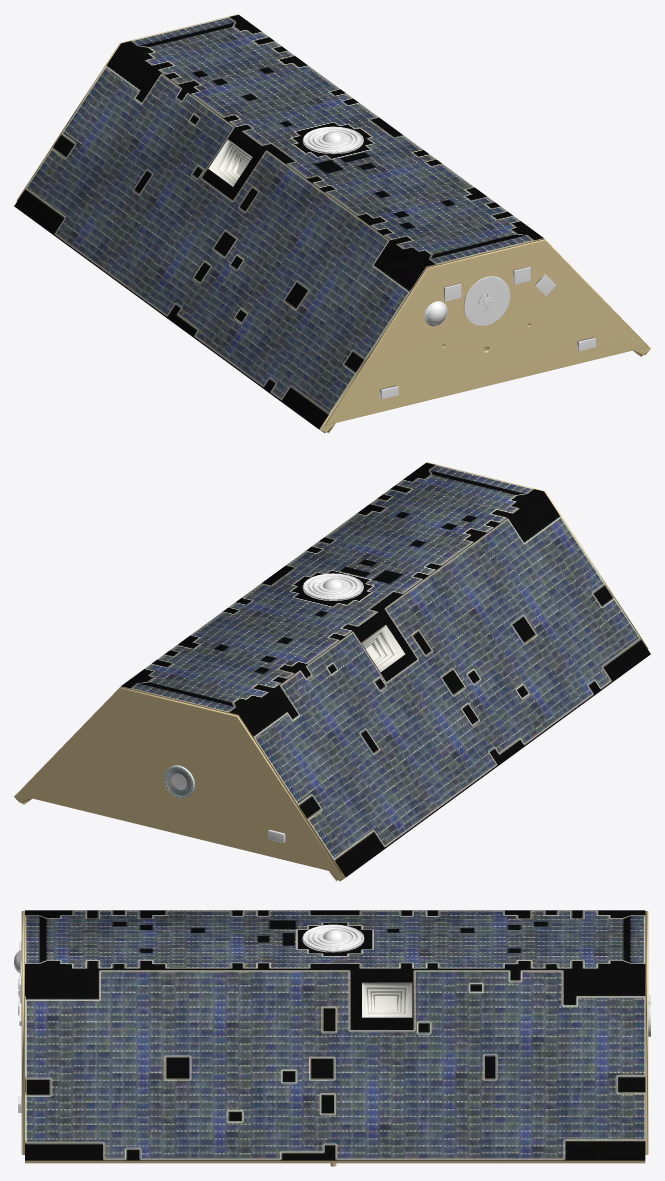
Rendered from grace-satellite.glb.
3 renders of one model, top to bottom at view 1: azimuth 30°, elevation 25°; view 2: azimuth 150°, elevation 25°; view 3: azimuth 270°, elevation 25°, orthographic.
Parts seen in each view (by area): view 1: Mesh .006, Mesh .001, Mesh .005, Mesh .002, Mesh, Mesh .004; view 2: Mesh .006, Mesh .001, Mesh .002, Mesh; view 3: Mesh .006, Mesh .002, Mesh .001, Mesh.
Boxes of the visible parts, box(x1,y1,x2,y2) form: Mesh .006: box(14, 14, 543, 429); Mesh .001: box(16, 14, 648, 425); Mesh .005: box(463, 276, 510, 325); Mesh .002: box(208, 139, 650, 433); Mesh: box(302, 126, 363, 154); Mesh .004: box(379, 266, 595, 399); Mesh .006: box(121, 462, 650, 877); Mesh .001: box(16, 462, 648, 873); Mesh .002: box(14, 624, 405, 881); Mesh: box(302, 573, 363, 600); Mesh .006: box(25, 910, 650, 1160); Mesh .002: box(25, 982, 645, 1163); Mesh .001: box(21, 911, 648, 1154); Mesh: box(302, 924, 364, 952).
Size of the model in its own units: 1.89 by 1.26 by 3.1.
Materials: 13 (2 with a texture image).
